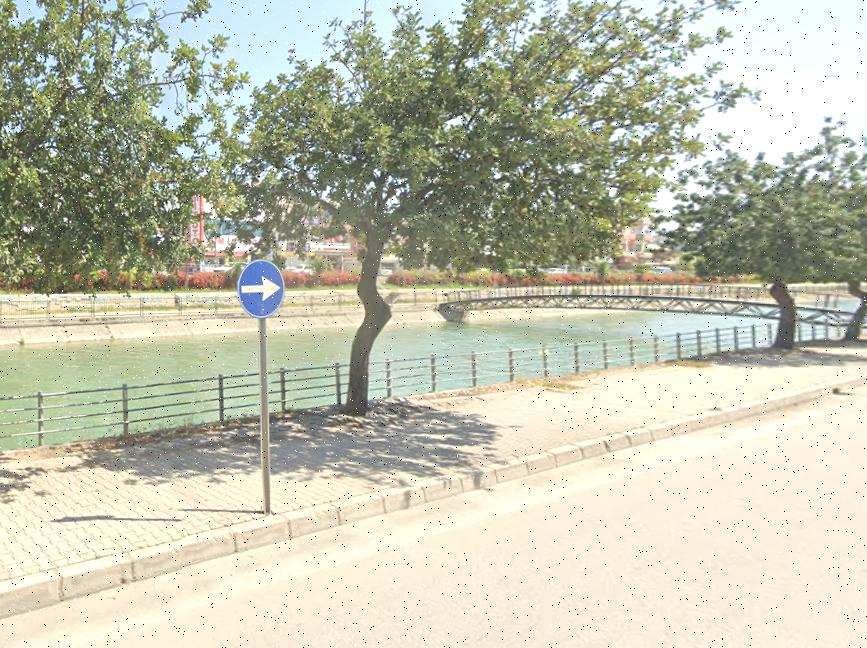turnright: (242, 261, 285, 313)
